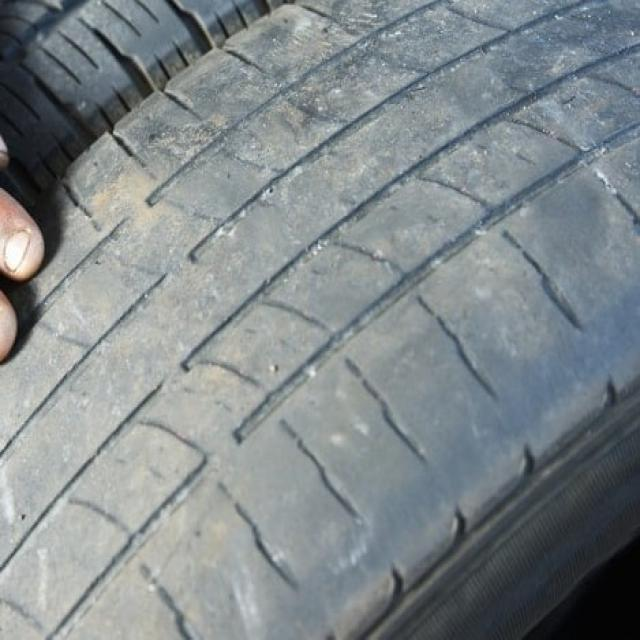Flat spots: (57, 30, 639, 639)
